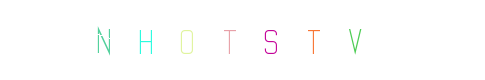H: (166, 0, 246, 80)
N: (106, 0, 186, 80)
O: (184, 0, 264, 80)
S: (205, 0, 285, 80)
T: (202, 0, 282, 80), (230, 0, 310, 80)
V: (273, 0, 353, 80)
